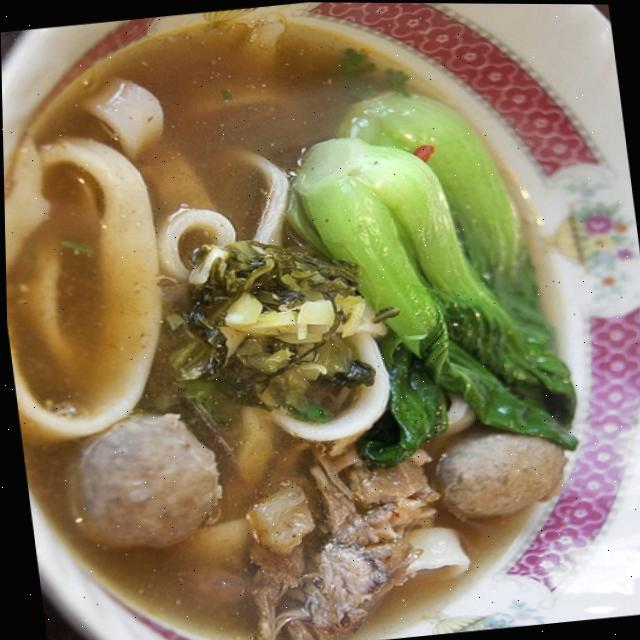面条主食: (0, 0, 626, 640)
